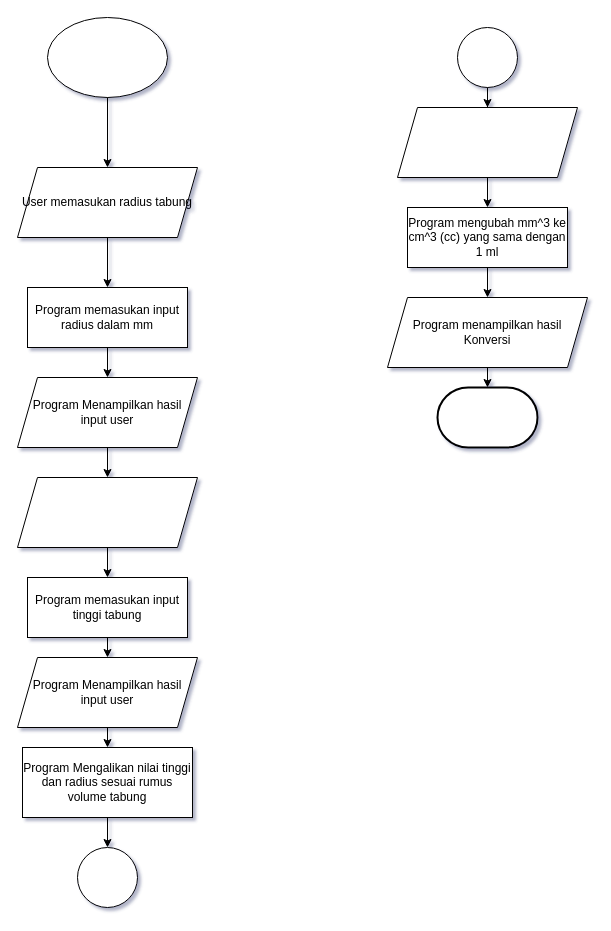
Some shapes in this 611 by 931 pixel diagram are drawn without their labels. Here are the shapes that lost their labels. From the top down, the box of each, then its label:
(46, 16, 168, 98): START
(396, 106, 578, 178): Program menampilkan hasil perkalian dengan satuan mm^3
(436, 386, 538, 448): End
(16, 476, 198, 548): User memasukan radius tabung dalam mm
